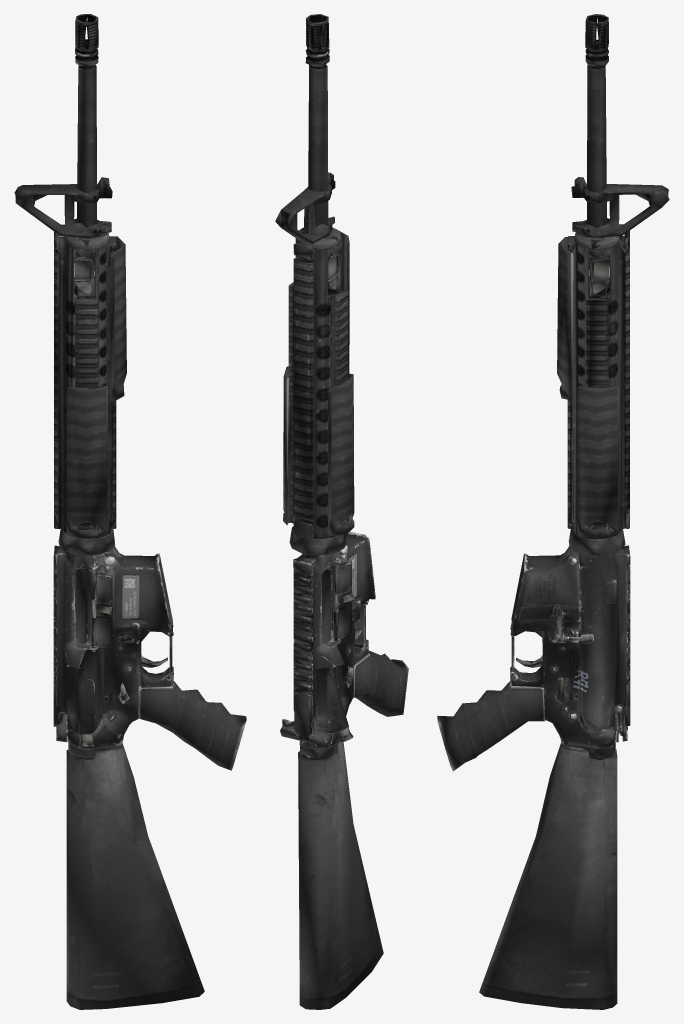
Rendered from AssaultRifleNoMag.fbx.
3 views of the same model, side by side, from view 1: azimuth 90°, elevation 25°; view 2: azimuth 150°, elevation 25°; view 3: azimuth 270°, elevation 25° (orthographic).
Visible parts, largest first — view 1: AssaultRifle; view 2: AssaultRifle; view 3: AssaultRifle.
Boxes of the visible parts, x1,y1,x2,y2 form: AssaultRifle: (14, 14, 246, 1009); AssaultRifle: (275, 14, 408, 1009); AssaultRifle: (437, 14, 669, 1009).
Bounding box in the file's own units: 0.0438 × 0.6092 × 0.1304.
